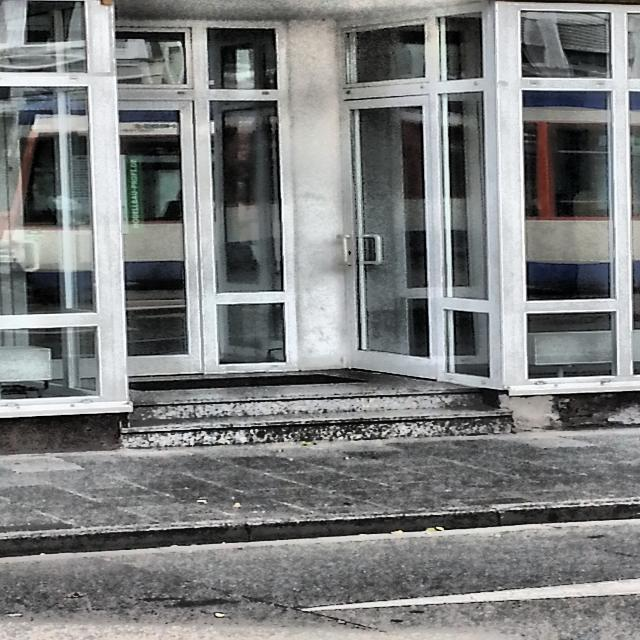escada: (117, 389, 516, 448)
